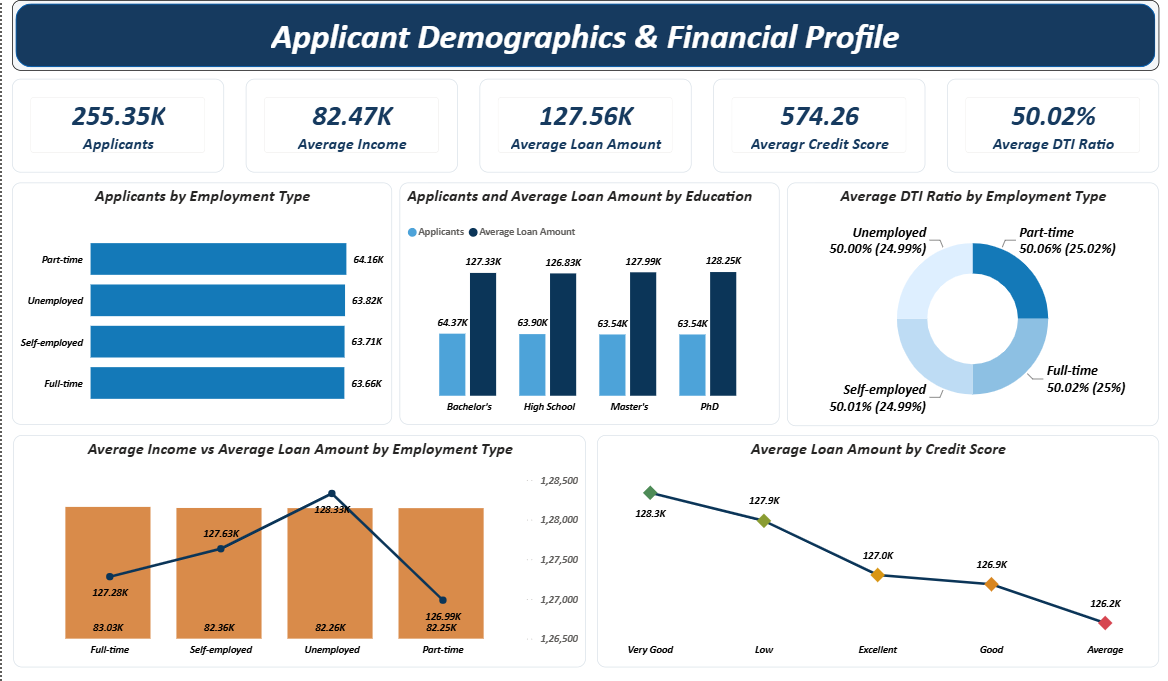

Layout of this report page (visuals, bound fields, positions):
{"tool":"powerbi","page":{"name":"Applicant Demographics & Financial Profile","canvas":[1334,780],"ordinal":1},"visuals":[{"type":"shape","box":[11,0,1311,80.8],"z":0},{"type":"cardVisual","fields":{"Data":["Measure Table2.Applicants"]},"box":[11,90.4,242.5,106.8],"z":1000},{"type":"cardVisual","fields":{"Data":["Loan_default.Average Income"]},"box":[278.1,90.4,242.5,106.8],"z":2000},{"type":"cardVisual","fields":{"Data":["Measure Table2.Average Loan Amount"]},"box":[545.2,90.4,242.5,106.8],"z":3000},{"type":"clusteredBarChart","fields":{"Category":["Loan_default.Employment Type"],"Y":["Measure Table2.Applicants"]},"box":[11,208.2,434.2,276.7],"z":4000},{"type":"clusteredColumnChart","fields":{"Category":["Loan_default.Education"],"Y":["Measure Table2.Applicants","Measure Table2.Average Loan Amount"]},"box":[454.1,208.2,434.2,276.7],"z":5000},{"type":"lineClusteredColumnComboChart","title":"Average Income vs Average Loan Amount by Employment Type","fields":{"Category":["Loan_default.Employment Type"],"Y":["Measure Table2.Average Income"],"Y2":["Measure Table2.Average Loan Amount"]},"box":[12.3,497.3,654.8,265.8],"z":6000},{"type":"cardVisual","fields":{"Data":["Measure Table2.Averagr Credit Score"]},"box":[812.3,90.4,242.5,106.8],"z":7000},{"type":"lineChart","fields":{"Category":["Loan_default.Credit Score Grps"],"Y":["Measure Table2.Average Loan Amount"]},"box":[680,497.1,642,265.8],"z":8000},{"type":"donutChart","fields":{"Category":["Loan_default.Employment Type"],"Y":["Measure Table2.Average DTI Ratio"]},"box":[897.3,208.2,424.7,278.1],"z":9000},{"type":"cardVisual","fields":{"Data":["Measure Table2.Average DTI Ratio"]},"box":[1079.5,90.4,242.5,106.8],"z":10000}]}

Visuals, with their boxes in screenshot pixels (x1, y1, x2, y2), scaled from the page's 1334x780 canvas onto the 1168x681 screenshot:
shape: left=10, top=0, right=1157, bottom=71
cardVisual - Measure Table2.Applicants: left=10, top=79, right=222, bottom=172
cardVisual - Loan_default.Average Income: left=243, top=79, right=456, bottom=172
cardVisual - Measure Table2.Average Loan Amount: left=477, top=79, right=690, bottom=172
clusteredBarChart - Loan_default.Employment Type x Measure Table2.Applicants: left=10, top=182, right=390, bottom=423
clusteredColumnChart - Loan_default.Education x Measure Table2.Applicants: left=398, top=182, right=778, bottom=423
"Average Income vs Average Loan Amount by Employment Type" lineClusteredColumnComboChart: left=11, top=434, right=584, bottom=666
cardVisual - Measure Table2.Averagr Credit Score: left=711, top=79, right=924, bottom=172
lineChart - Loan_default.Credit Score Grps x Measure Table2.Average Loan Amount: left=595, top=434, right=1157, bottom=666
donutChart - Loan_default.Employment Type x Measure Table2.Average DTI Ratio: left=786, top=182, right=1157, bottom=425
cardVisual - Measure Table2.Average DTI Ratio: left=945, top=79, right=1157, bottom=172
